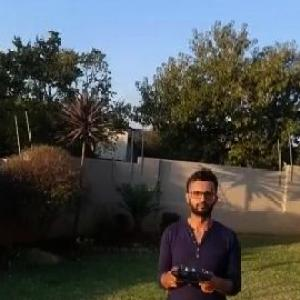follow: (150, 160, 246, 299)
